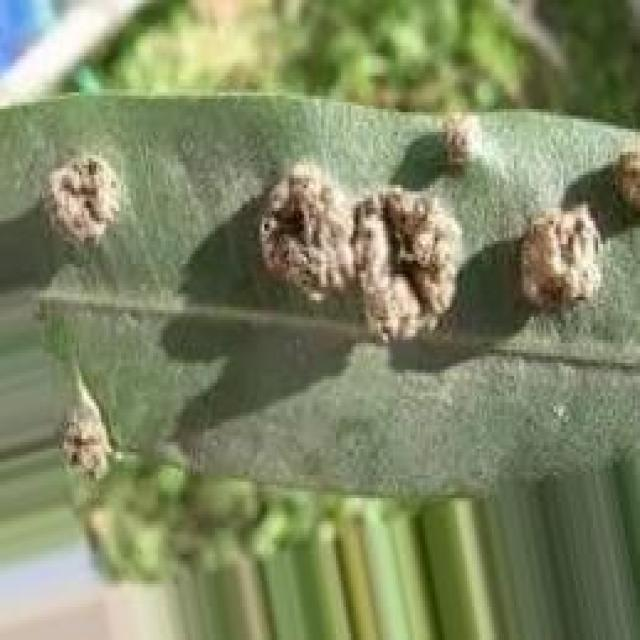Tuberculosis: (260, 162, 460, 330), (522, 201, 600, 310), (42, 152, 116, 244), (67, 412, 111, 475), (450, 116, 487, 172)
